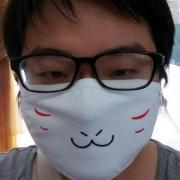OK: (27, 36, 158, 167)
